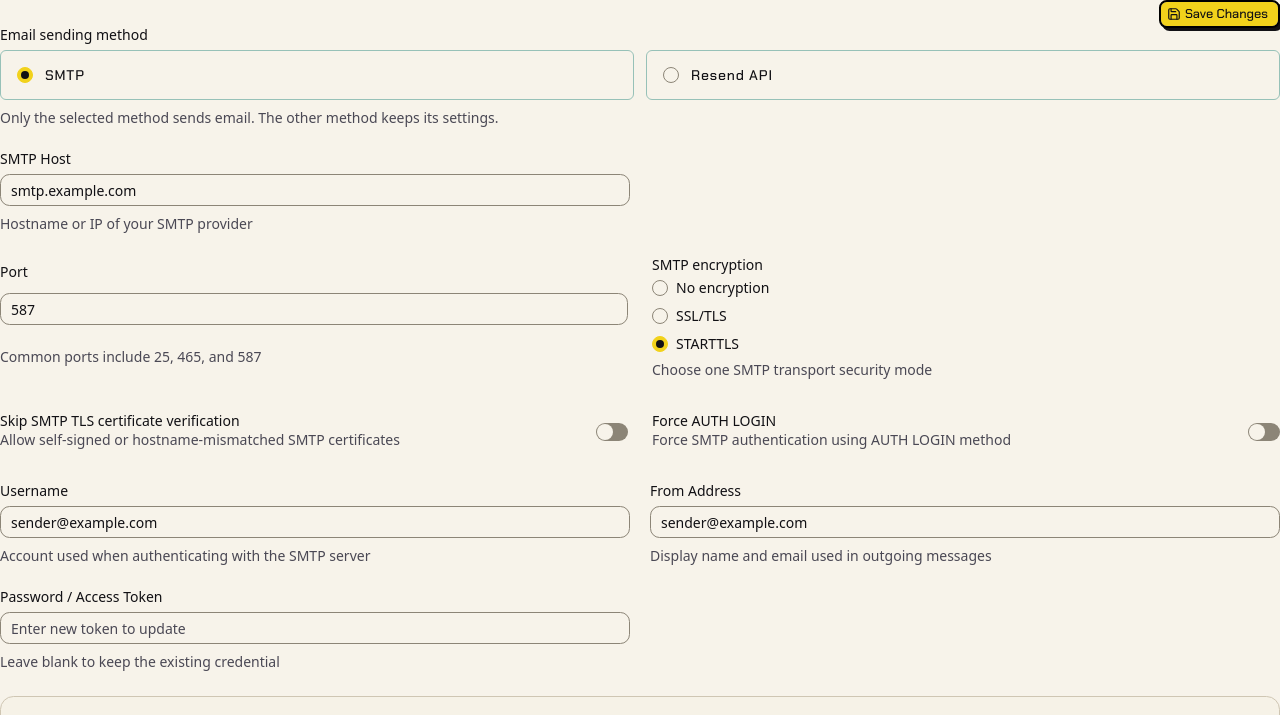
Test: email delivery settings › selects only one provider, hides inactive fields and retains SMTP drafts when switching back
Type "draft.smtp.example.com" into the field labelled "SMTP Host".
click(315, 190); type("draft.smtp.example.com")  # box [0,174,630,206]
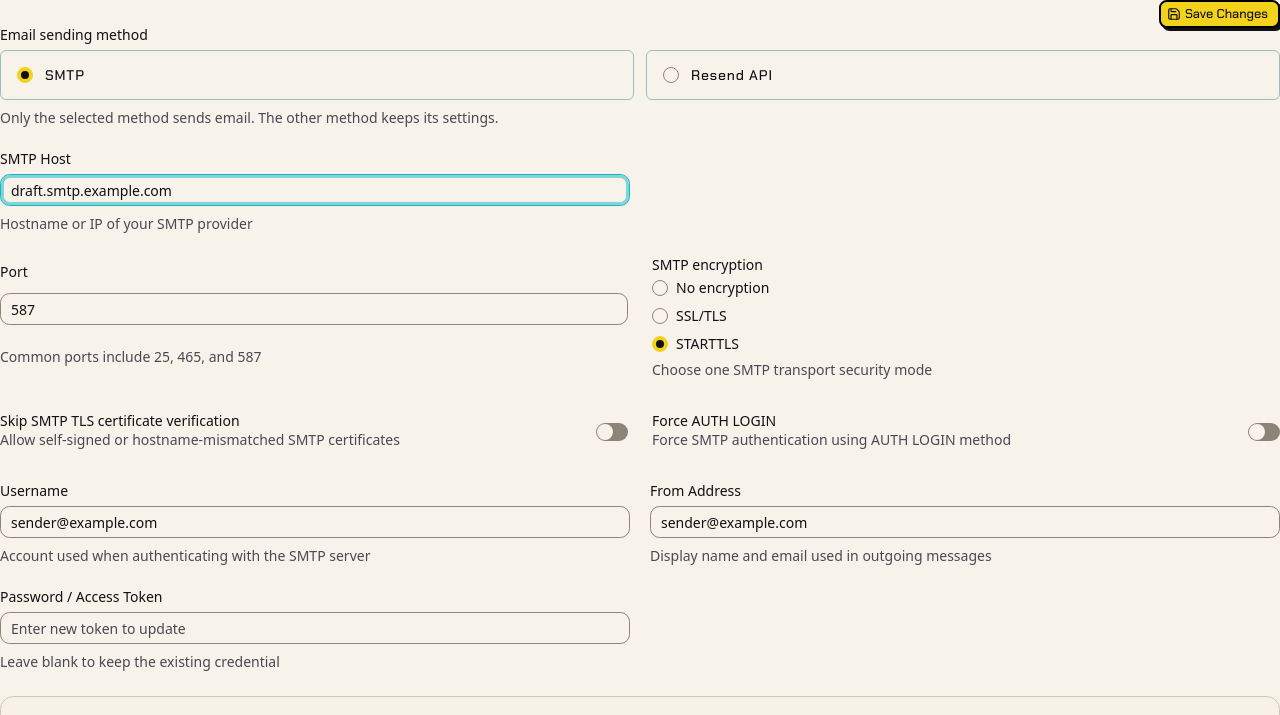
Click the radio button named "Resend API" next to "Resend API".
click(671, 75)  # box [663,67,679,83]
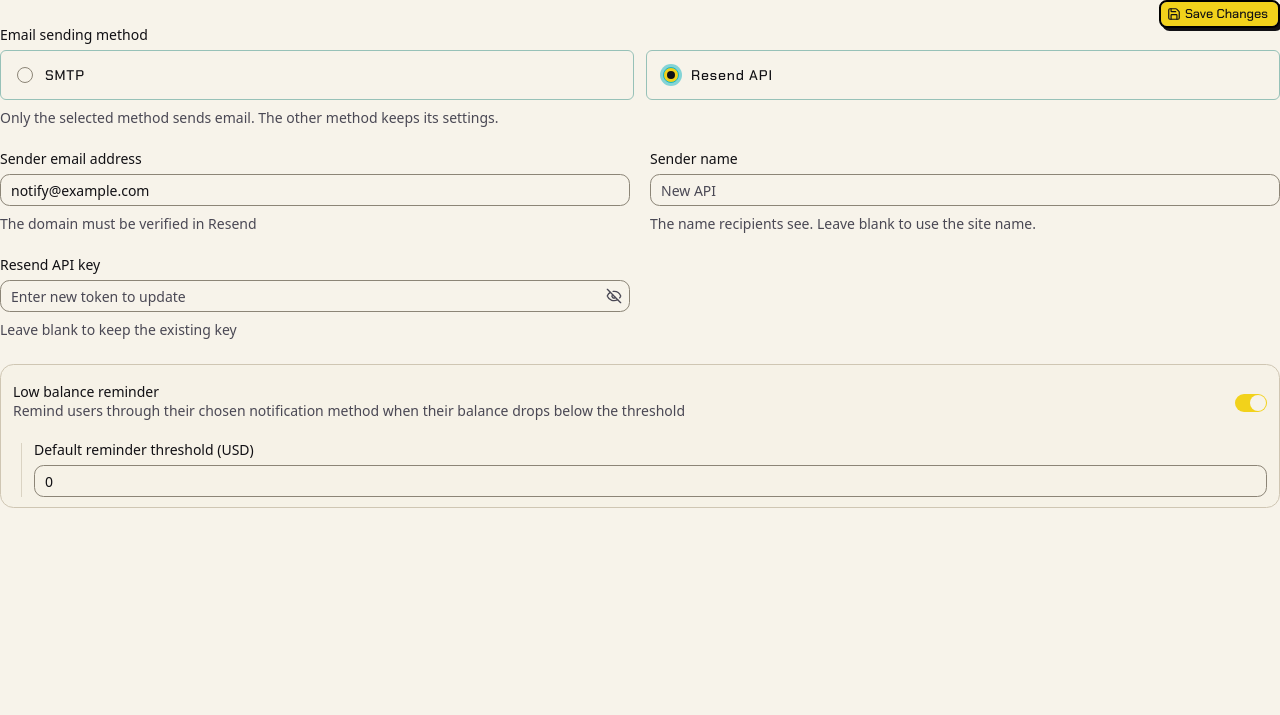
expect the 2nd radio button named "Resend API" is checked: met, box [663,67,679,83]
expect the radio button named "SMTP" next to "SMTP" is not checked: met
expect the label "SMTP Host" is gone: met
Click the radio button named "SMTP" next to "SMTP".
click(25, 75)  # box [17,67,33,83]
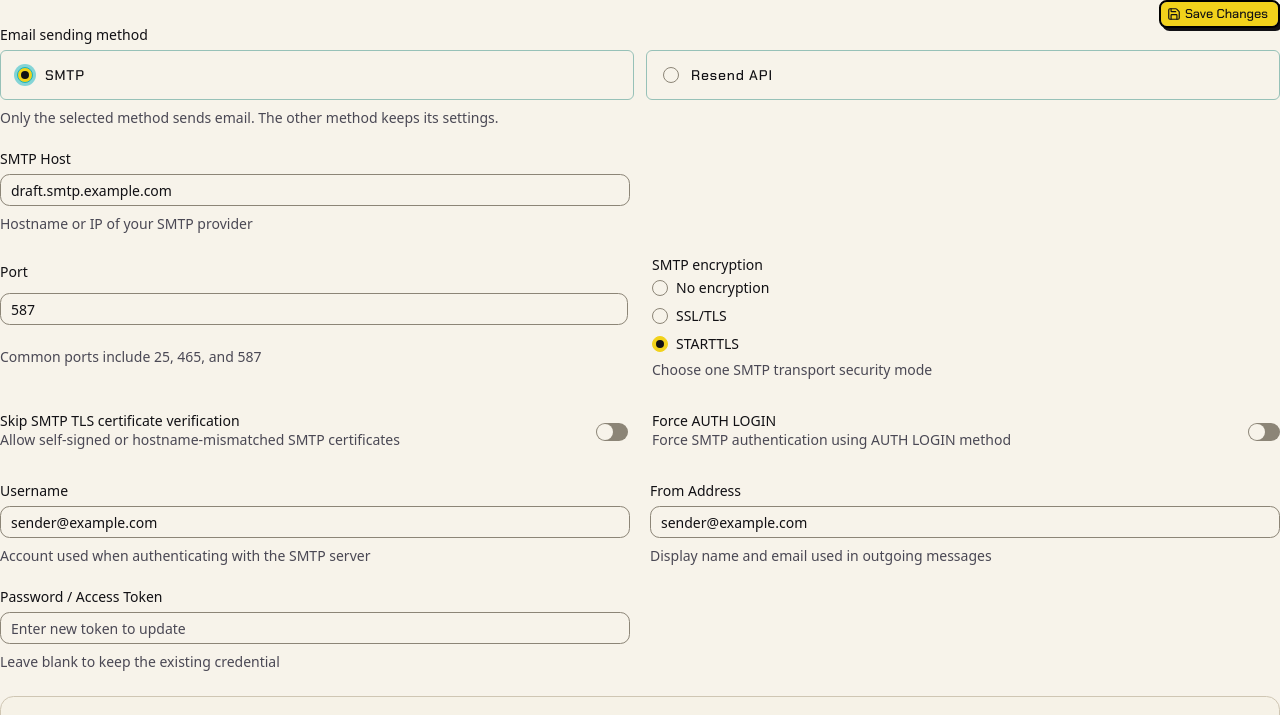
expect the label labelled "Resend API key" is gone: met
